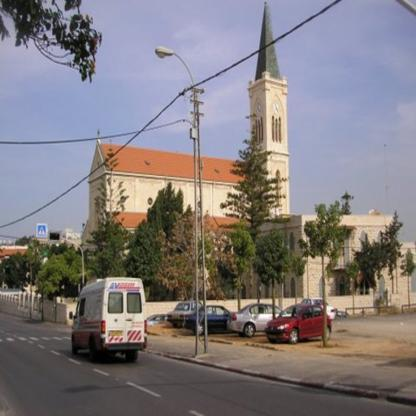Ambulance - v1 Ambulance last generate: (69, 274, 148, 372)
